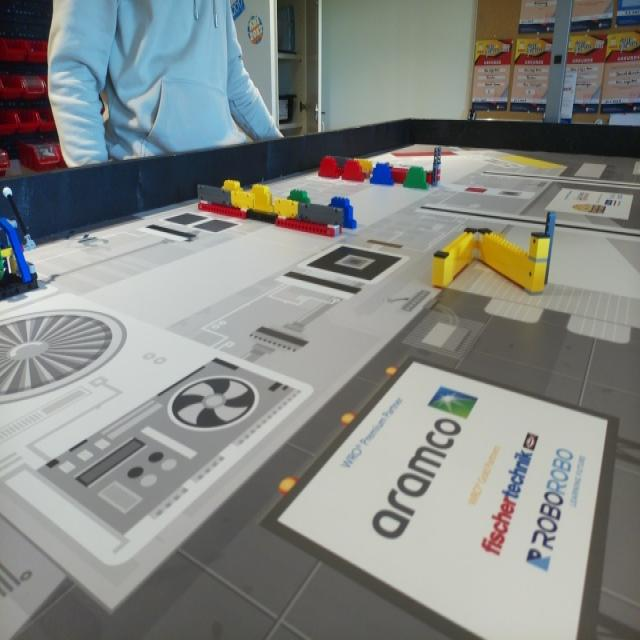blau: (332, 196, 359, 230), (372, 164, 394, 187)
gruen: (404, 165, 429, 190), (290, 190, 311, 202)
rot: (319, 157, 339, 176), (344, 160, 362, 181)
yellow: (254, 188, 270, 210), (223, 179, 242, 190)
